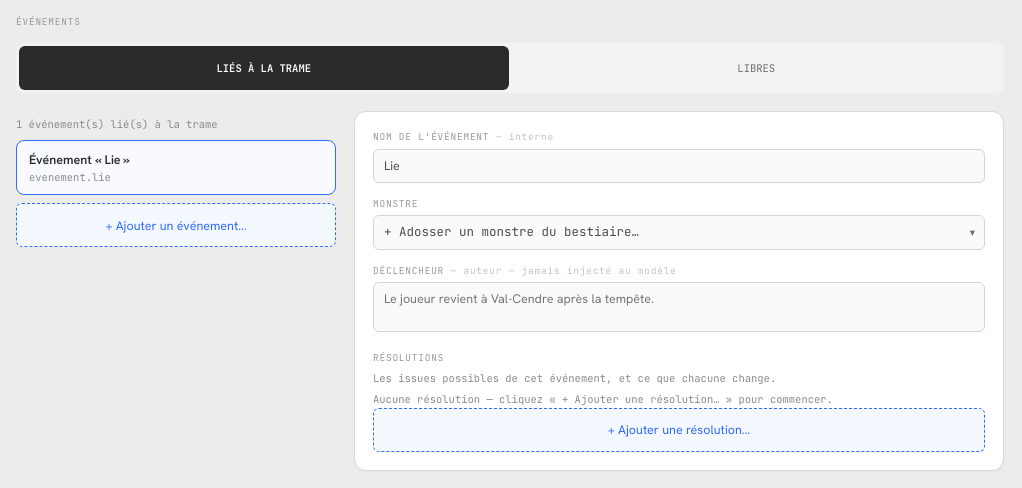
Test: PanneauEvenements › discriminance des deux onglets: chaque evenement visible dans son seul onglet, absence croisee (critere #3, KR-197/199/202)
Expected: the text "Événement « Lie »" is shown, top-left (29, 151), bottom-right (130, 168)
Expected: the text "Événement « Libre »" is not shown
Click the radio button labelled "LIBRES".
click(756, 68)  # box top-left (512, 46), bottom-right (1001, 90)
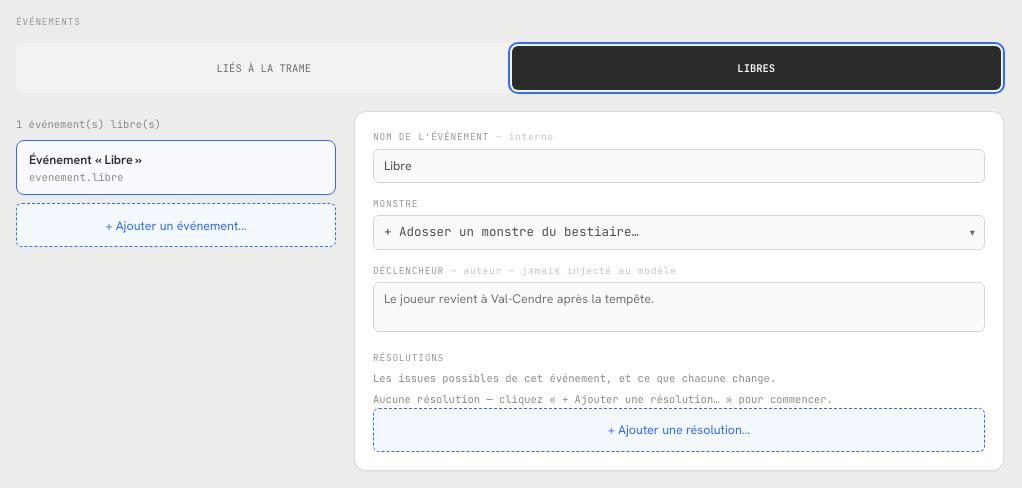
Now the text "Événement « Libre »" is shown, box top-left (29, 151), bottom-right (142, 168)
Now the button "Événement « Lie »" is gone
Now the text "1 événement(s) libre(s)" is shown, box top-left (16, 117), bottom-right (161, 131)
